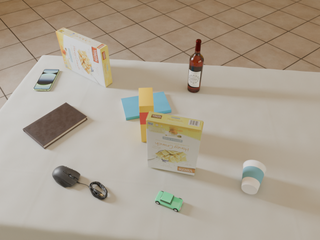book: (23, 103, 87, 149), (121, 92, 171, 120)
bottle: (188, 39, 204, 92)
box: (146, 111, 204, 175), (56, 28, 112, 87), (139, 88, 154, 142)
cup: (242, 160, 266, 194)
mouse: (52, 166, 80, 187)
phone: (34, 69, 59, 90)
toy_car: (155, 191, 183, 212)
